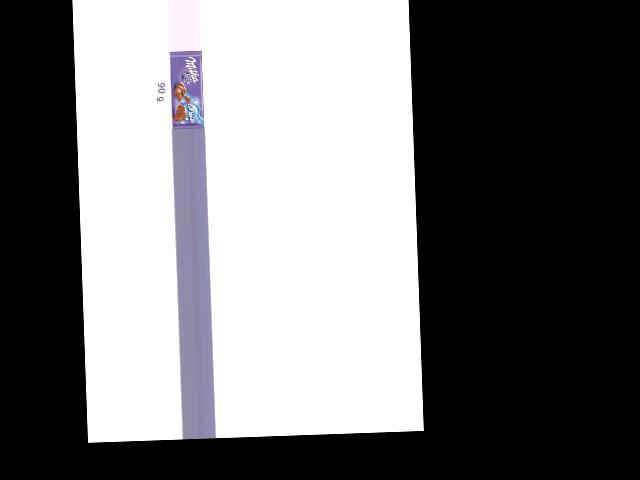chocolate: (169, 52, 204, 130)
